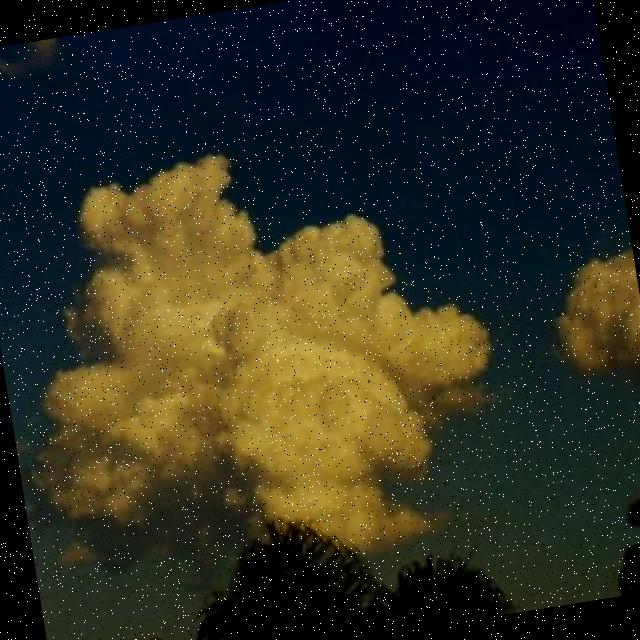Cu: (1, 55, 640, 521)
